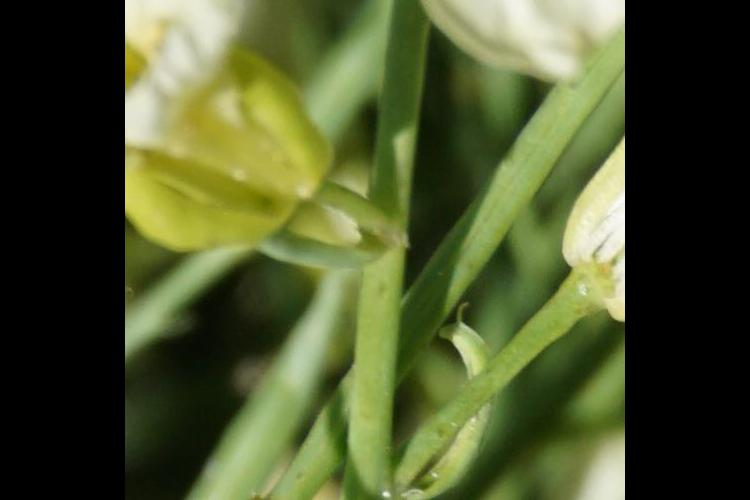white: (139, 1, 330, 278), (408, 1, 615, 123)
